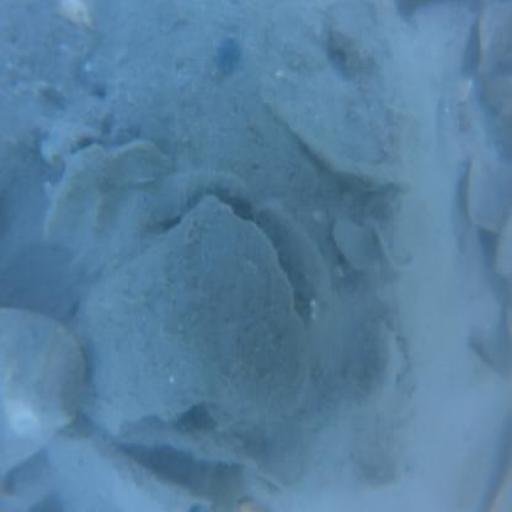Oyster-Closed: (72, 198, 302, 429), (268, 1, 450, 194), (1, 306, 82, 479)
Oyster-Open: (48, 418, 288, 512)
